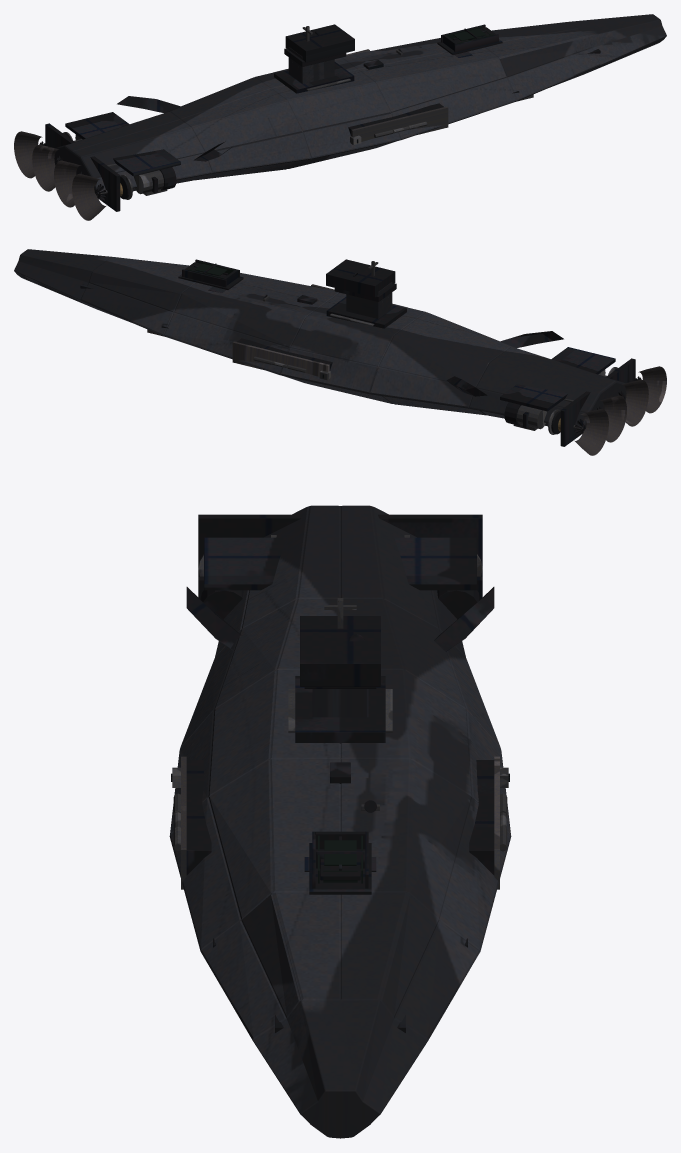
File: colossus_production_v1_lod2.glb
3 renders of one model, top to bottom at view 1: azimuth 30°, elevation 25°; view 2: azimuth 150°, elevation 25°; view 3: azimuth 270°, elevation 25°, orthographic. The views are drawn at different scales.
Parts seen in each view (by area): view 1: LOD2_Hull, LOD2_Armor, LOD2_Mechanical, LOD2_Canopy; view 2: LOD2_Hull, LOD2_Armor, LOD2_Mechanical, LOD2_Canopy; view 3: LOD2_Hull, LOD2_Armor, LOD2_Mechanical, LOD2_Canopy.
Boxes of the visible parts, <box> form: LOD2_Hull: <box>54,14,666,193</box>; LOD2_Armor: <box>39,24,600,211</box>; LOD2_Mechanical: <box>14,26,533,220</box>; LOD2_Canopy: <box>446,26,493,43</box>; LOD2_Hull: <box>14,249,626,428</box>; LOD2_Armor: <box>80,259,641,446</box>; LOD2_Mechanical: <box>147,261,666,455</box>; LOD2_Canopy: <box>187,261,234,278</box>; LOD2_Hull: <box>169,505,511,1138</box>; LOD2_Armor: <box>186,514,494,1032</box>; LOD2_Mechanical: <box>172,535,508,889</box>; LOD2_Canopy: <box>318,835,362,883</box>.
Size of what is drawn, in the model's own units: 23.96 by 4.73 by 5.89.
Materials: 8 (8 with a texture image).
